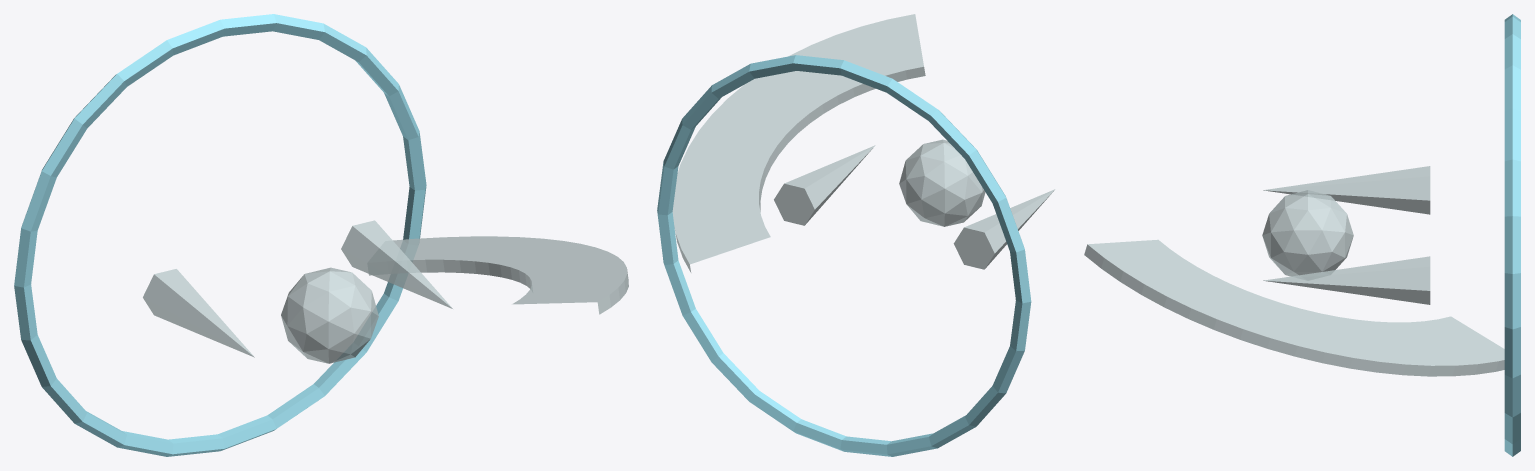
Rendered from 01_special_attack_vfx.glb.
3 renders of one model, left to right at view 1: azimuth 30°, elevation 25°; view 2: azimuth 150°, elevation 25°; view 3: azimuth 270°, elevation 25°, orthographic. The views are drawn at different scales.
Parts seen in each view (by area): view 1: impact_window_ring, combo_slash_or_magic_arc, timing_core, telegraph_spike_b, telegraph_spike_a; view 2: combo_slash_or_magic_arc, impact_window_ring, timing_core, telegraph_spike_b, telegraph_spike_a; view 3: combo_slash_or_magic_arc, impact_window_ring, timing_core, telegraph_spike_b, telegraph_spike_a.
Boxes of the visible parts, <box> form: impact_window_ring: <box>14,14,426,456</box>; combo_slash_or_magic_arc: <box>368,236,628,314</box>; timing_core: <box>281,267,378,363</box>; telegraph_spike_b: <box>341,220,452,308</box>; telegraph_spike_a: <box>143,269,254,357</box>; combo_slash_or_magic_arc: <box>672,14,925,272</box>; impact_window_ring: <box>657,55,1031,456</box>; timing_core: <box>899,139,985,226</box>; telegraph_spike_b: <box>774,145,875,225</box>; telegraph_spike_a: <box>953,189,1055,269</box>; combo_slash_or_magic_arc: <box>1084,239,1504,376</box>; impact_window_ring: <box>1504,14,1520,456</box>; timing_core: <box>1262,190,1353,276</box>; telegraph_spike_b: <box>1263,256,1430,304</box>; telegraph_spike_a: <box>1263,166,1430,214</box>.
Bounding box in the file's own units: 1.65 × 1.46 × 1.43.
